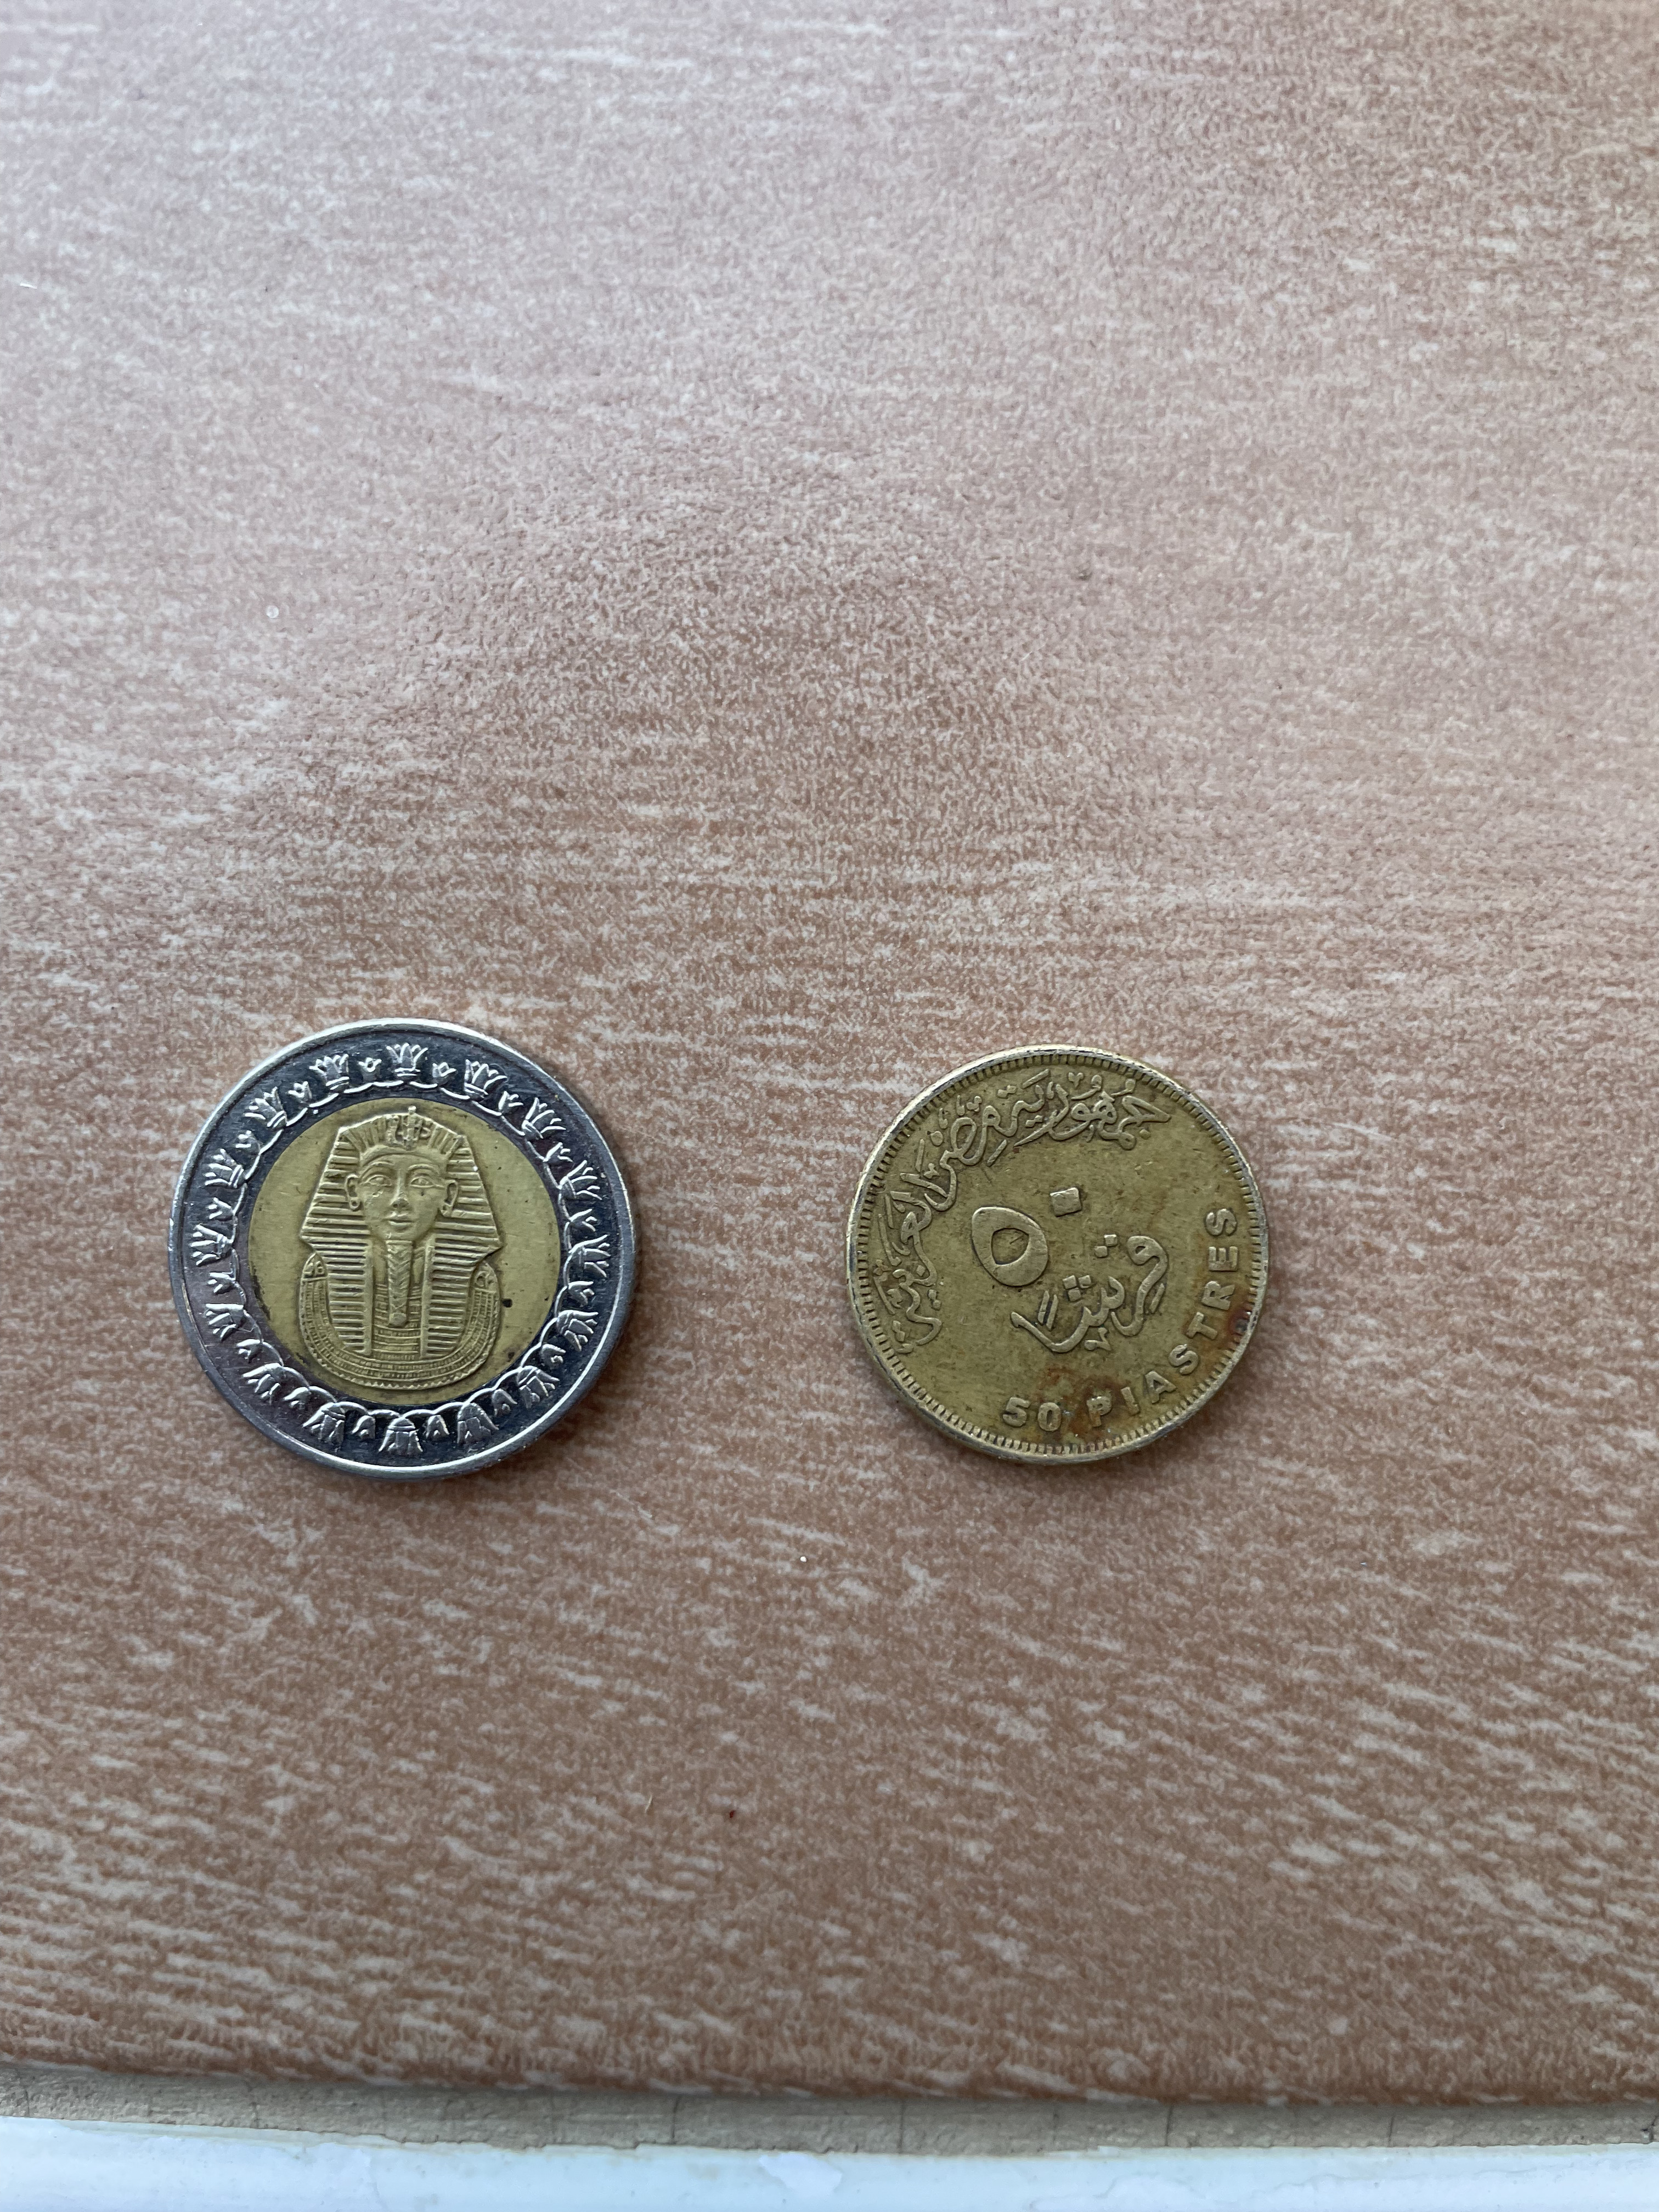half: (831, 1035, 1283, 1491)
one: (159, 1010, 655, 1487)
